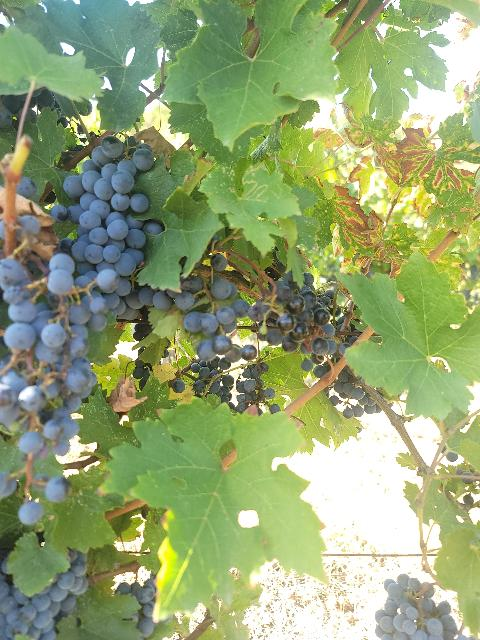grapes: (0, 136, 120, 526), (50, 135, 155, 331), (165, 251, 250, 361), (0, 549, 89, 640), (246, 272, 338, 360), (375, 575, 458, 640)
